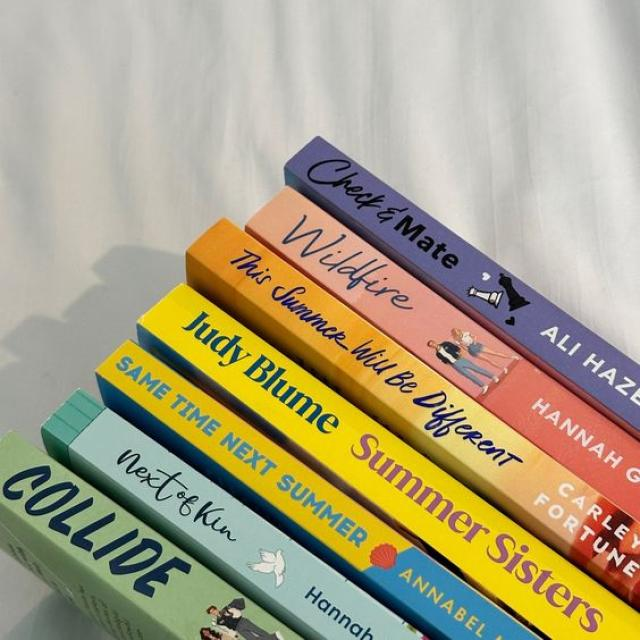book: (138, 286, 639, 639), (187, 220, 639, 599), (246, 190, 639, 554), (96, 342, 540, 639), (285, 140, 639, 436), (41, 390, 422, 639), (0, 433, 301, 639), (371, 544, 537, 639)
